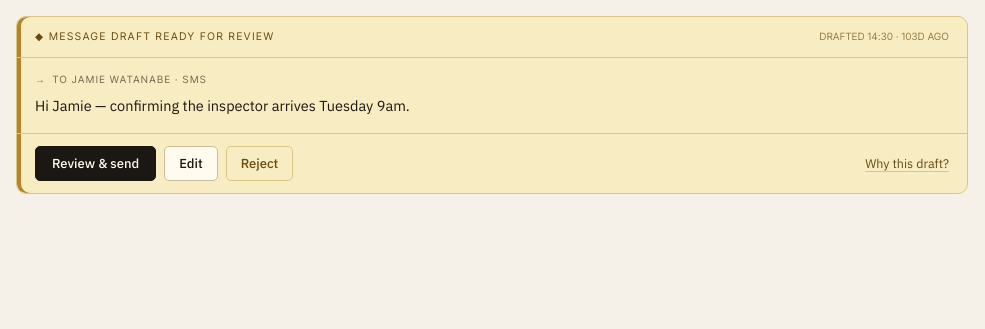
DraftHeroCard › edit flow › should exit edit mode after a successful Save
The image size is (985, 329).
Click the button with test id "pending-draft-edit": (191,163) [164, 146, 218, 181]
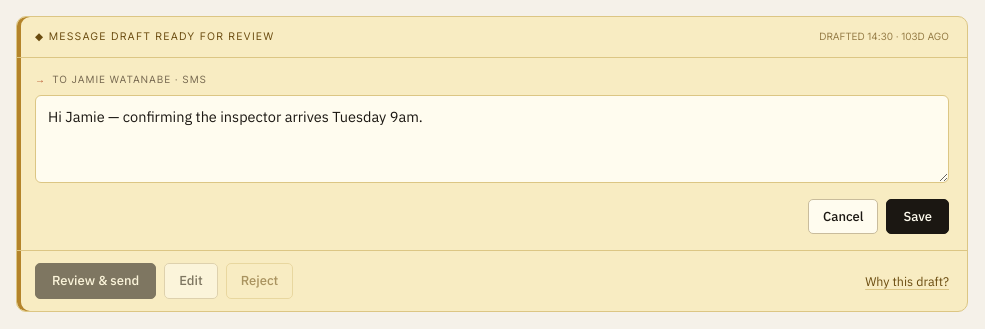
Replace the text in the text box with test id "pending-draft-edit-textarea" with "New body": (492,139) [35, 95, 949, 183]
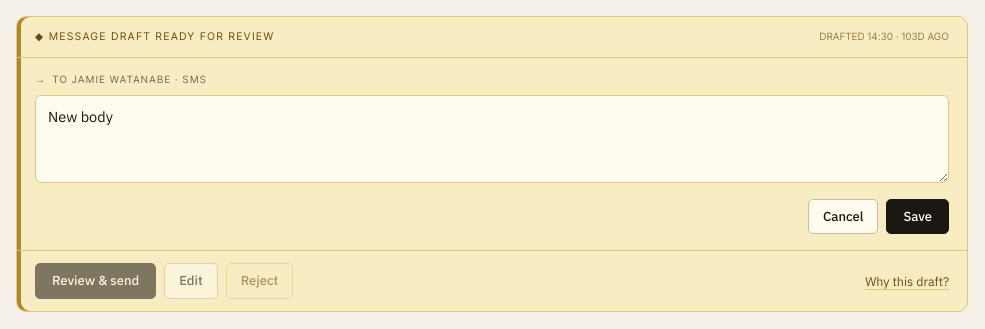
Click the button with test id "pending-draft-edit-save": (918,217) [886, 199, 949, 234]
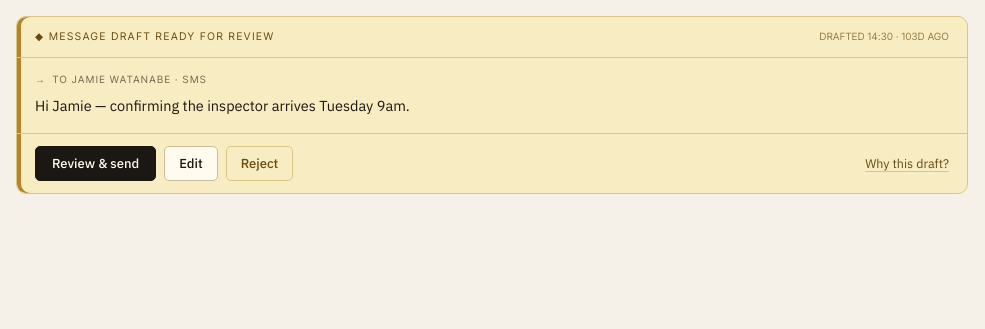
Expected: the text box with test id "pending-draft-edit-textarea" is gone
